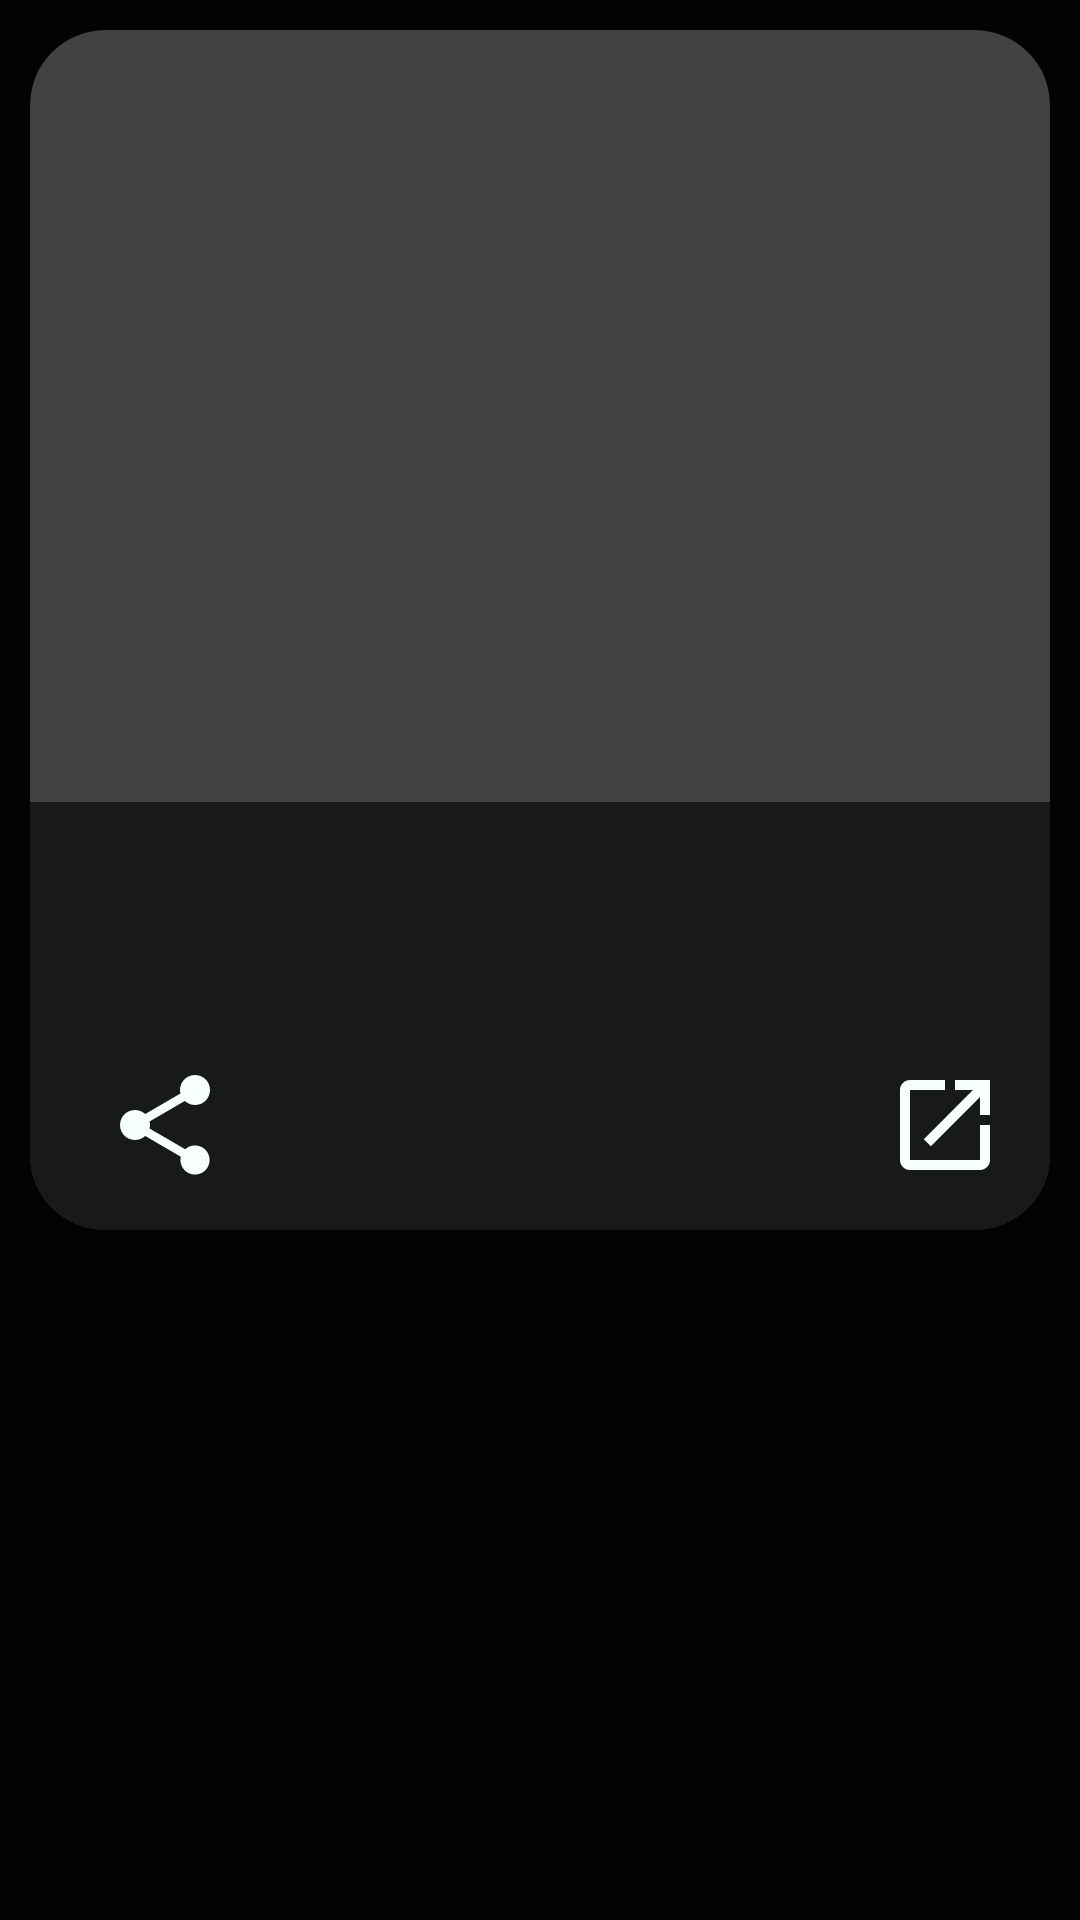

Where to tap for icons on this 1080 x 1920 app screen, as (x=x, y=y):
open news: (x=945, y=1125)
share: (x=165, y=1125)
